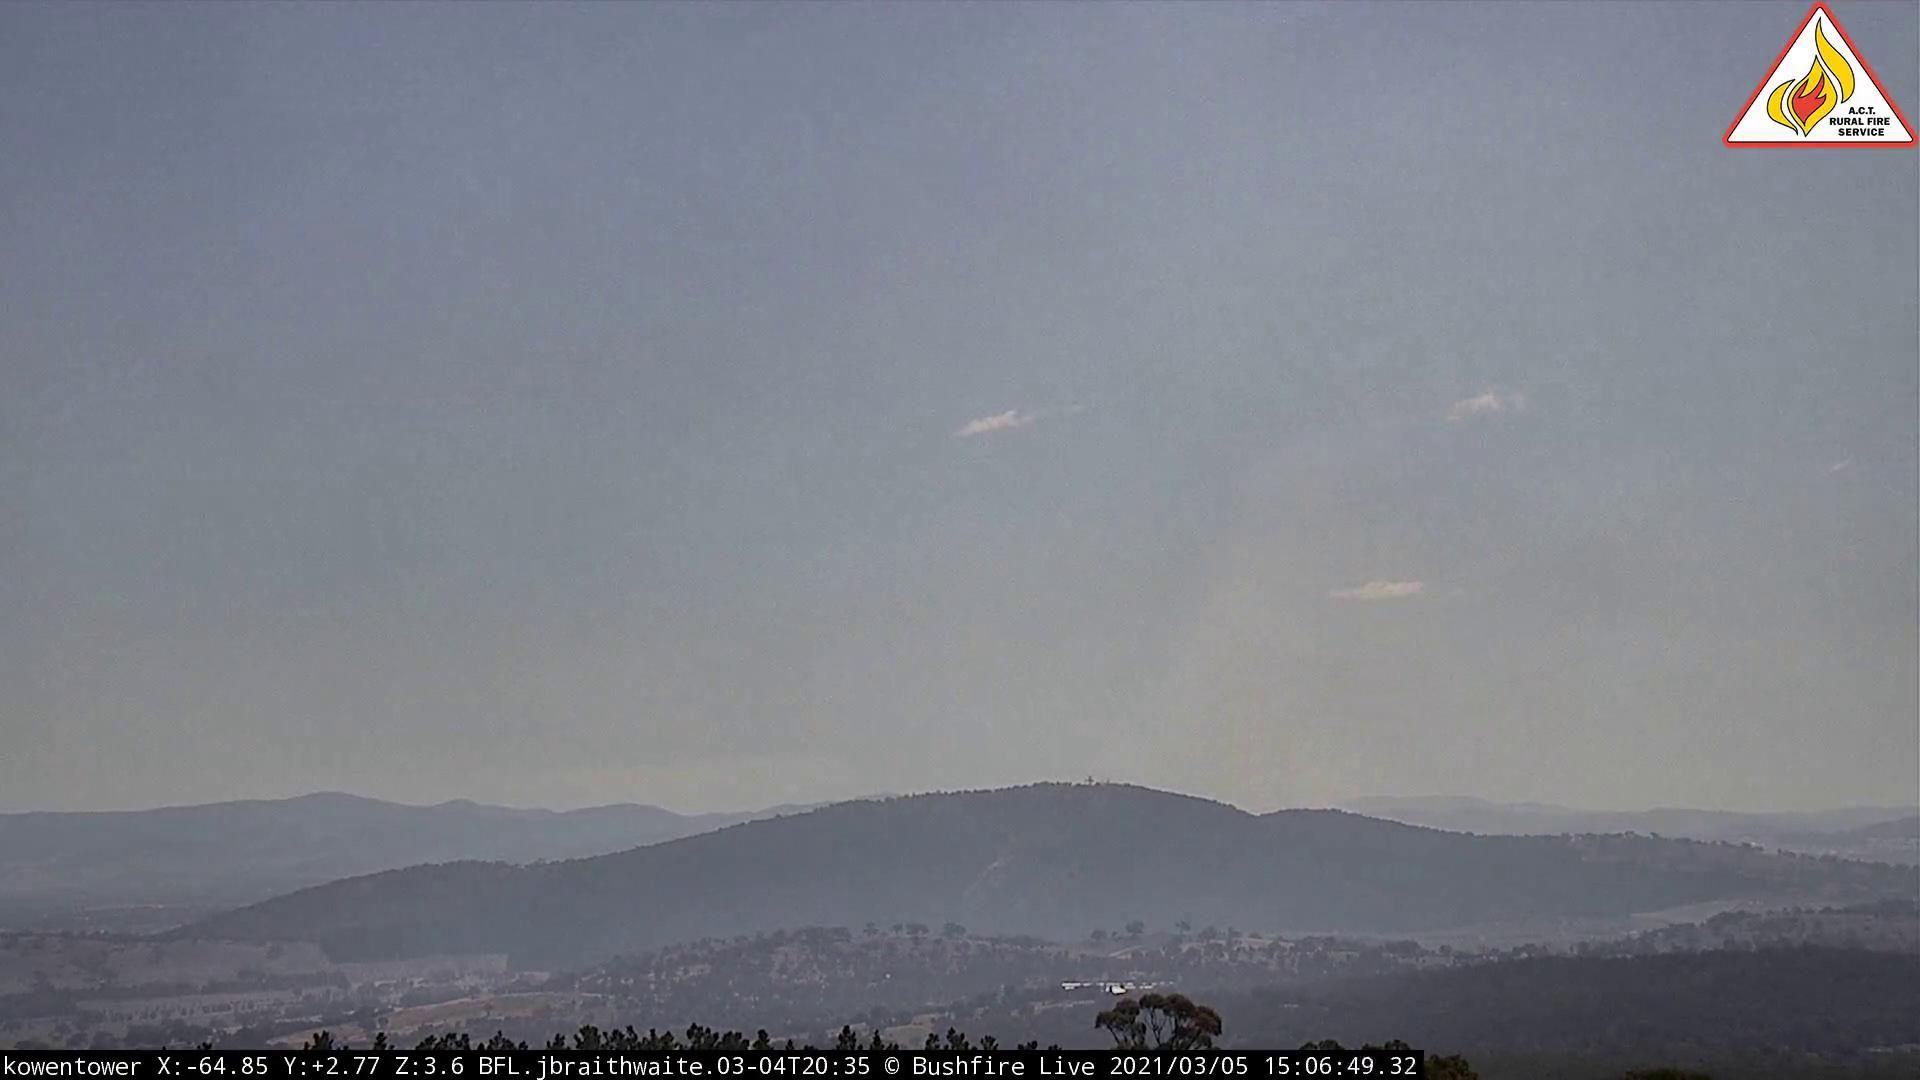Smoke: (1019, 377, 1571, 844)
